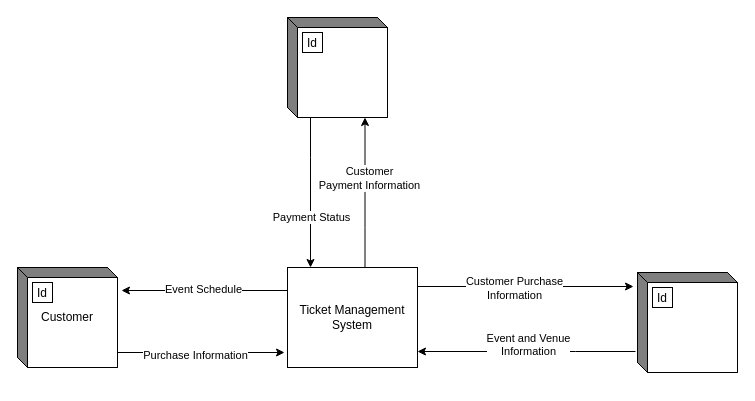
The diagram is 755 pixels wide and 401 high, and some of its shapes have lost their labels. The shapes that lost their labels are listed below. From the top down, each one's centre as x and y in pixels, then its label:
At (x=337, y=67): "Payment System".
At (x=687, y=322): "Venue".
